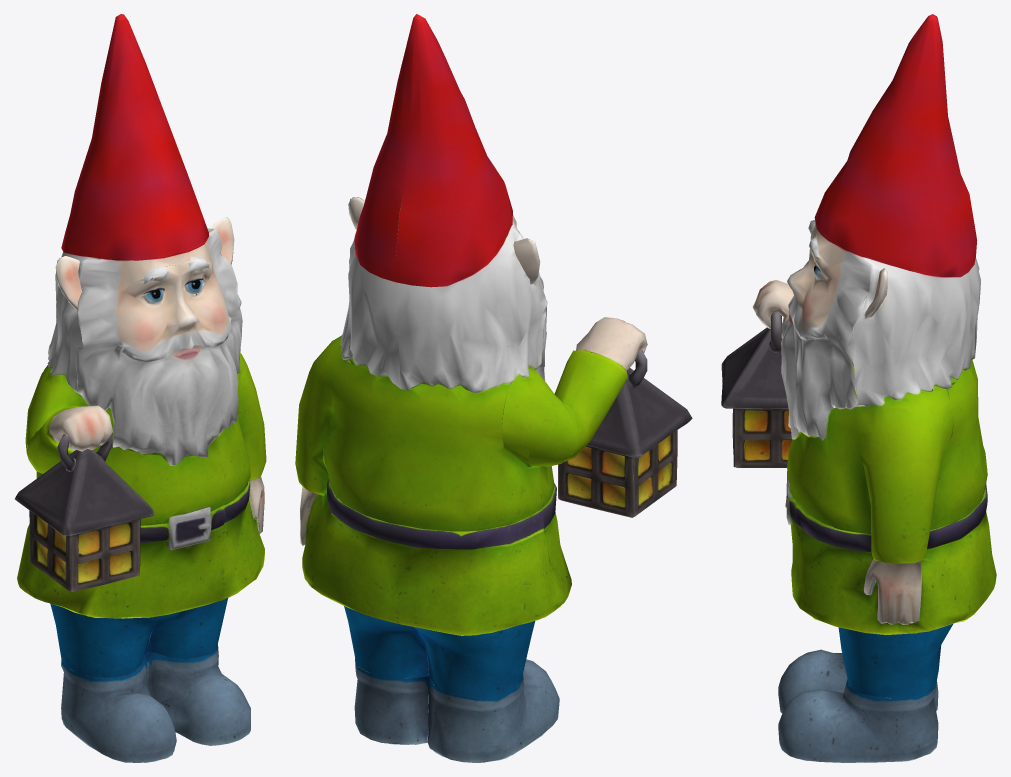
The model's file is Decor_Gnome.fbx.
3 views of the same model, side by side, from view 1: azimuth 30°, elevation 25°; view 2: azimuth 150°, elevation 25°; view 3: azimuth 270°, elevation 25° (orthographic). The views are drawn at different scales.
Parts seen in each view (by area): view 1: Decor_Gnome; view 2: Decor_Gnome; view 3: Decor_Gnome.
Part boxes in pixels (x1,y1,x2,y2): Decor_Gnome: (15,14,266,762); Decor_Gnome: (295,14,692,762); Decor_Gnome: (721,14,996,762).
Size of the model in its own units: 0.8596 by 2 by 0.701.
1 material, 1 textured.
